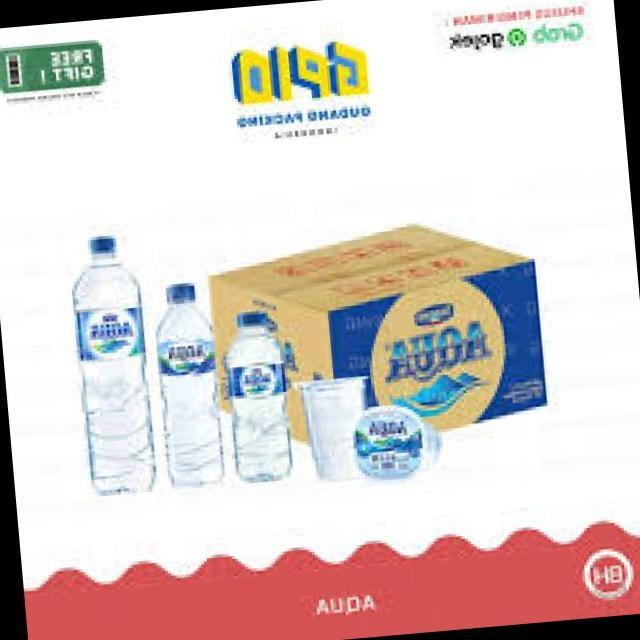good: (208, 300, 306, 507)
